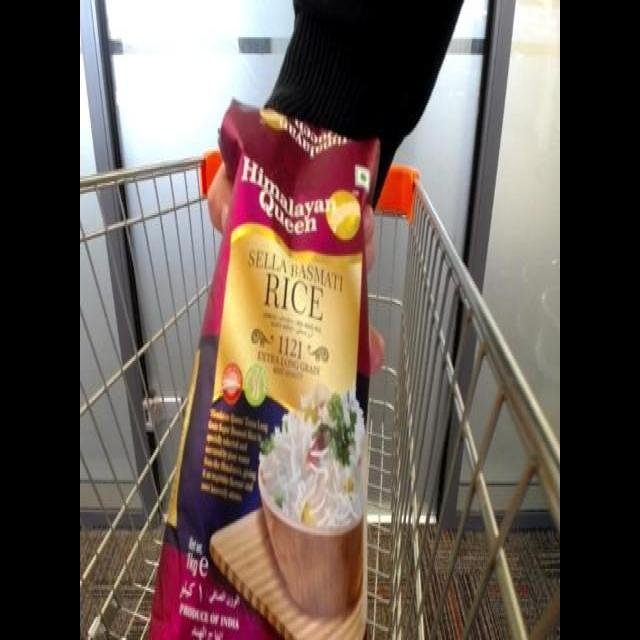Basmati Rice: (140, 102, 388, 632)
